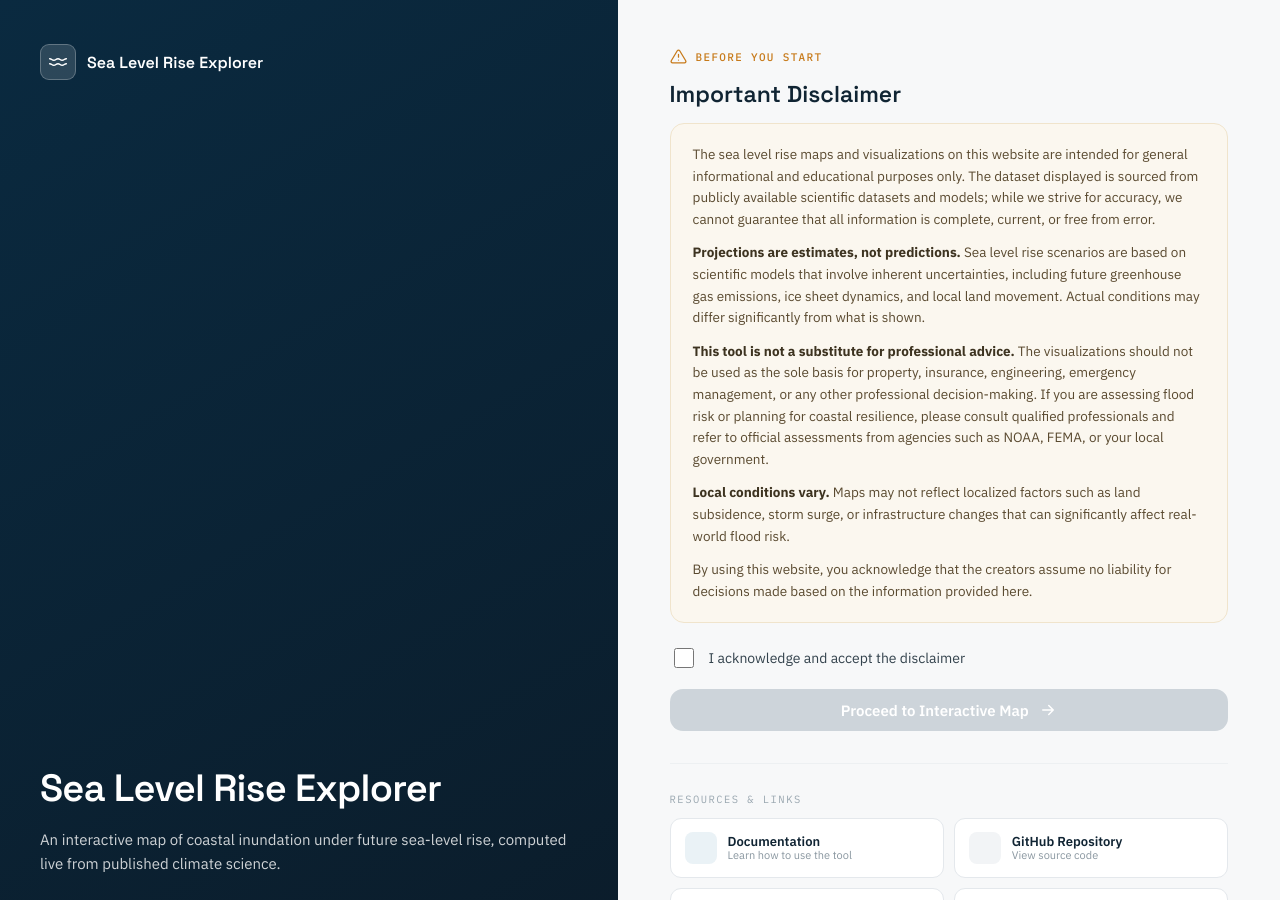
Scenario: App › toggles into story mode and hides the control panel
Click the checkbox labelled "I acknowledge and accept the disclaimer": (684, 658) [674,648,694,668]
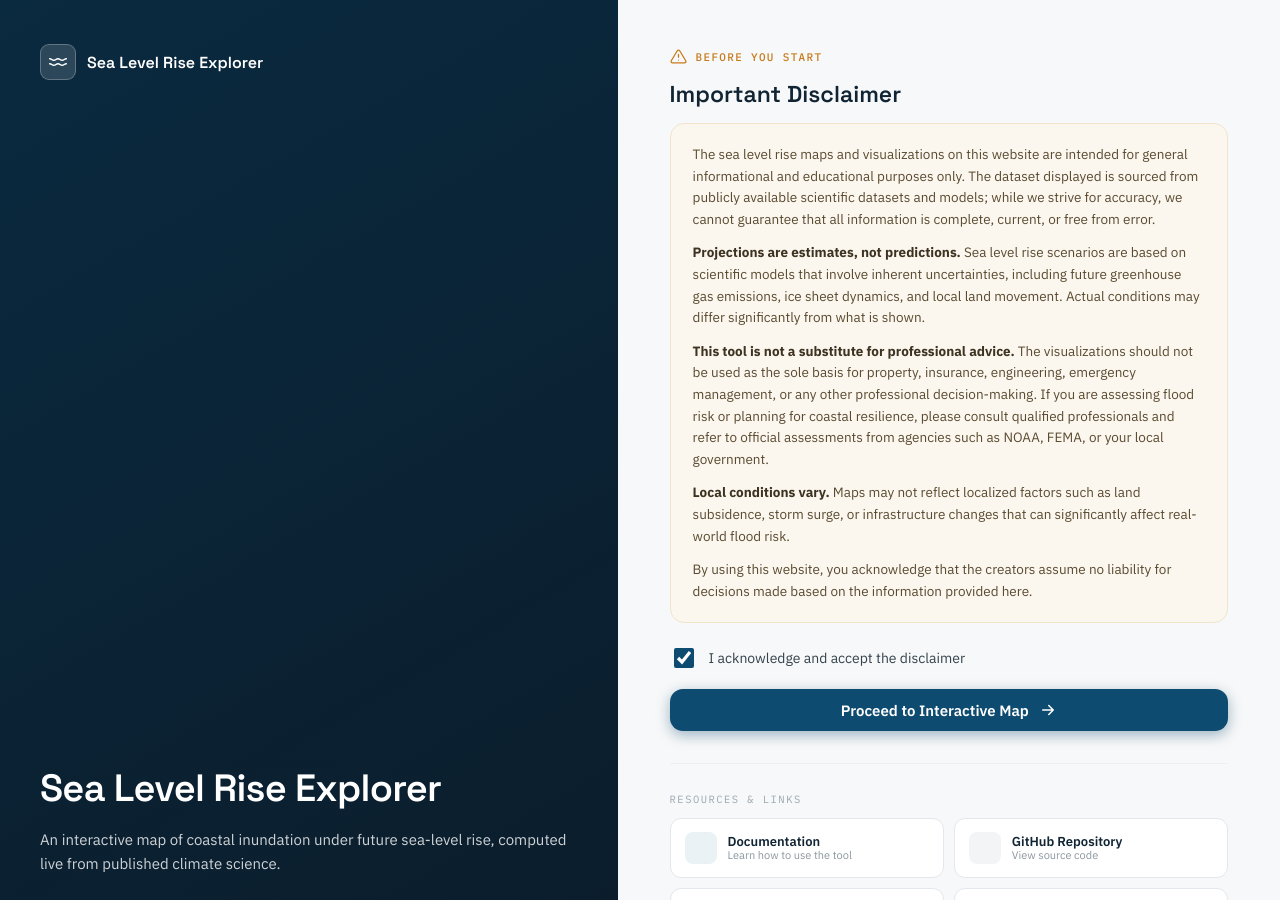
Click the button "Proceed to Interactive Map": (949, 710) [670,689,1228,731]
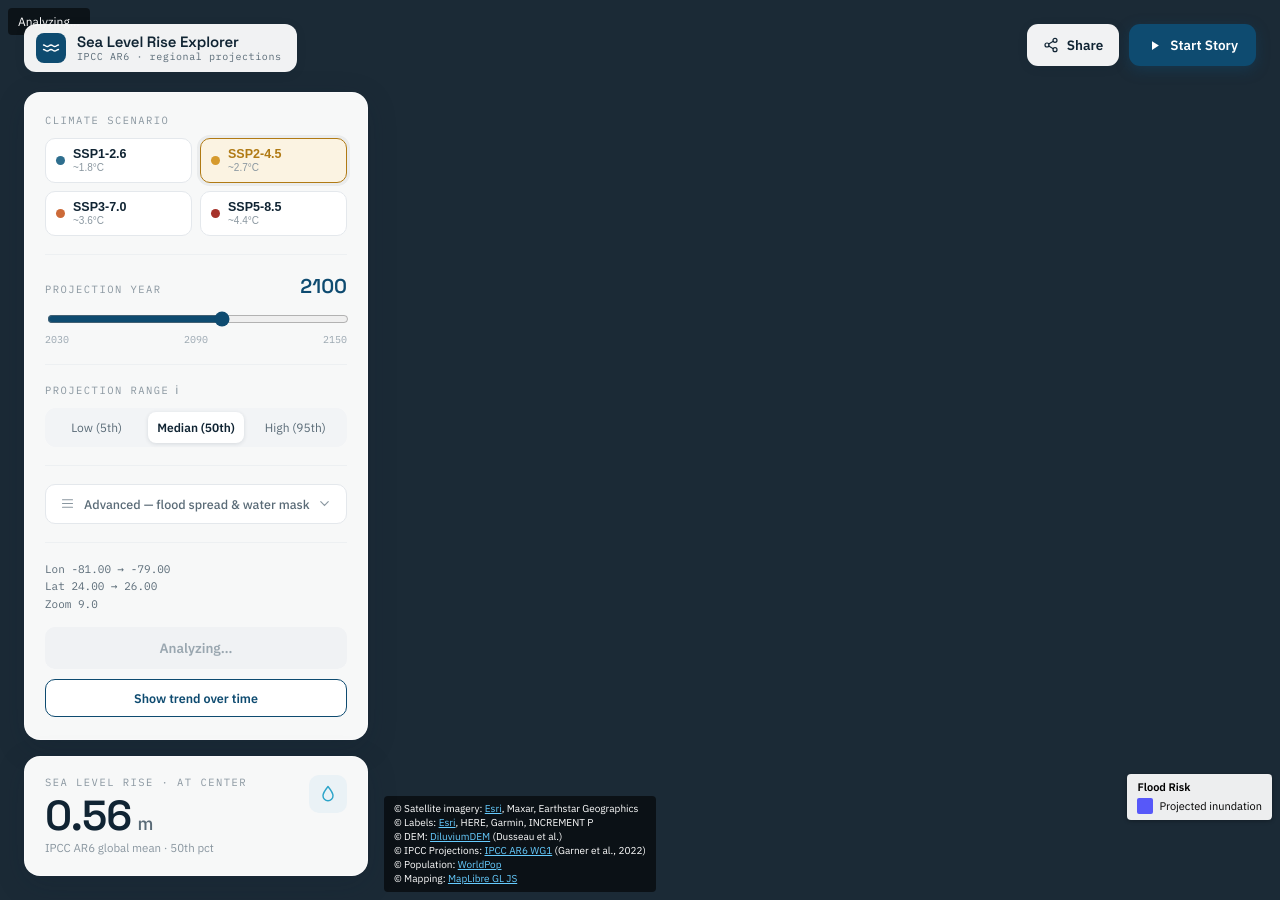
Click the button "Start Story": (1193, 45) [1129,24,1256,66]
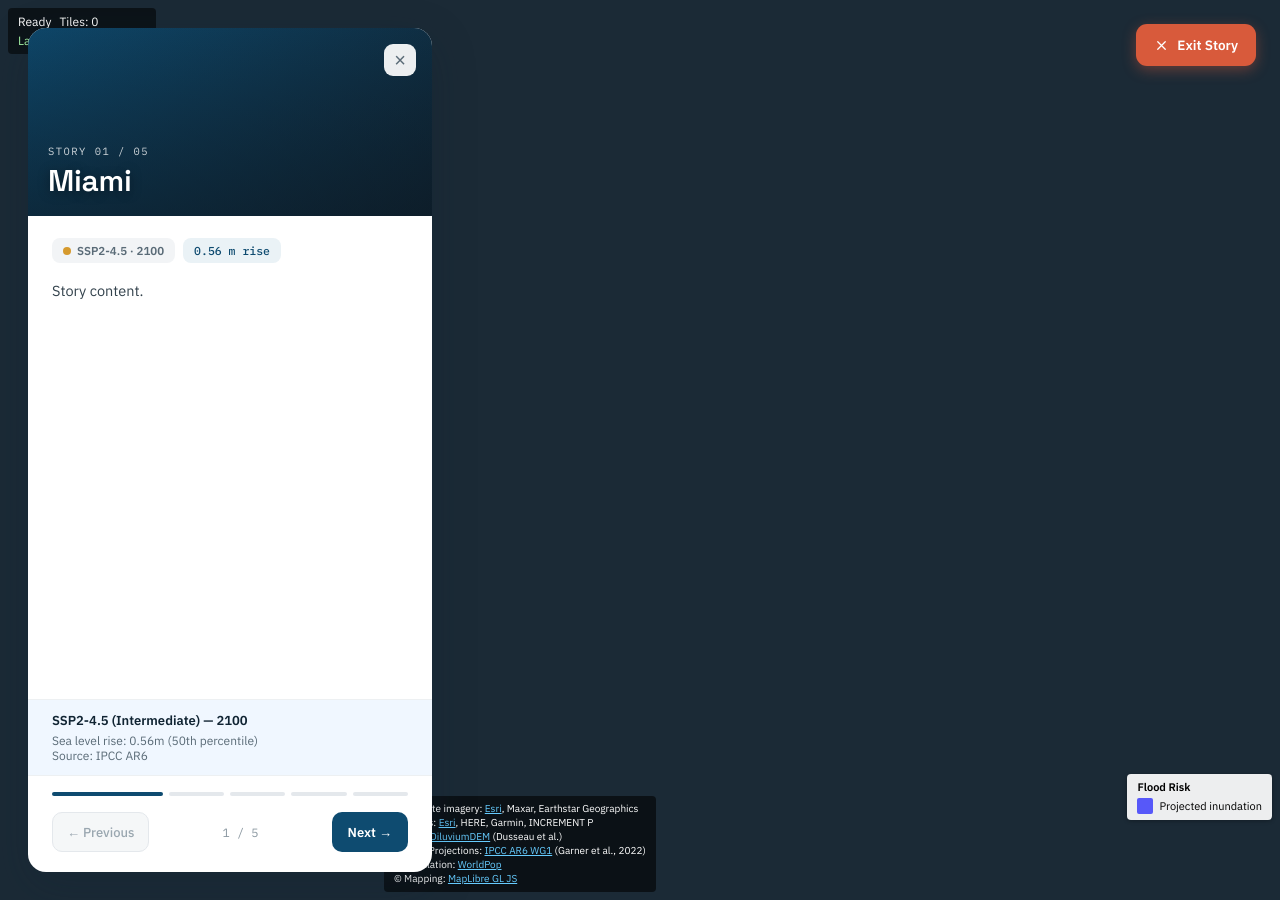
Expected: the button "Exit Story" is shown, [1136,24,1256,66]
Expected: the text "Projection Year" is gone
Expected: the text "Miami" is shown, [48,161,132,200]
